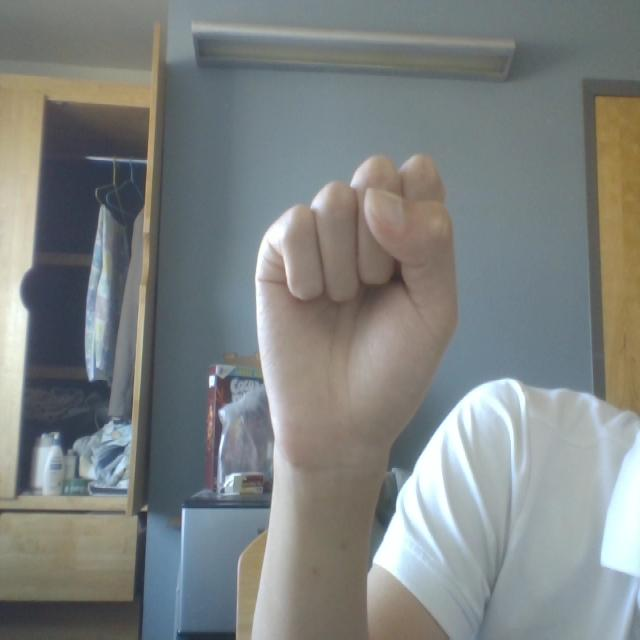S: (218, 124, 473, 508)
